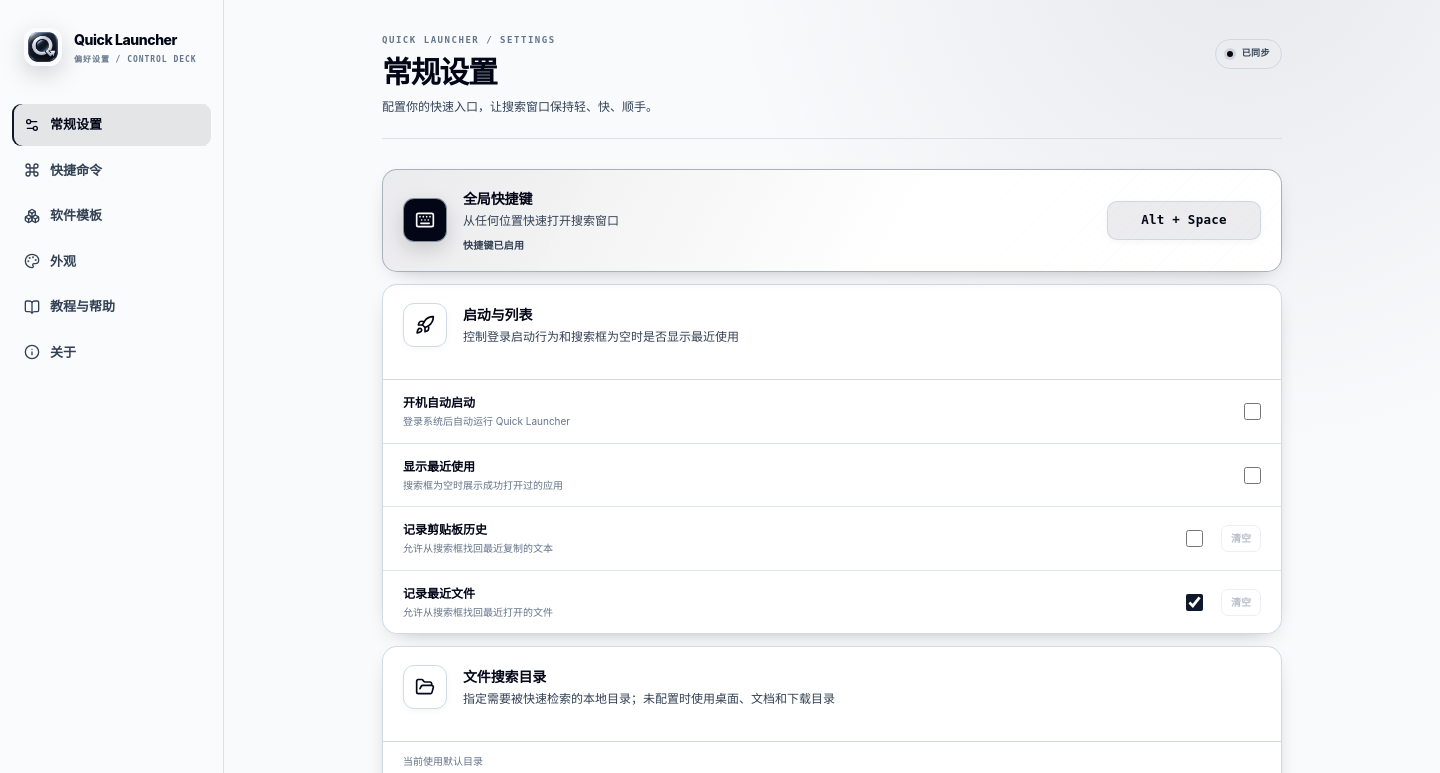
Test: SettingsPage › offers to relocate an unavailable package application
Click the button "快捷命令": (112, 170) x1=12 y1=150 x2=211 y2=191
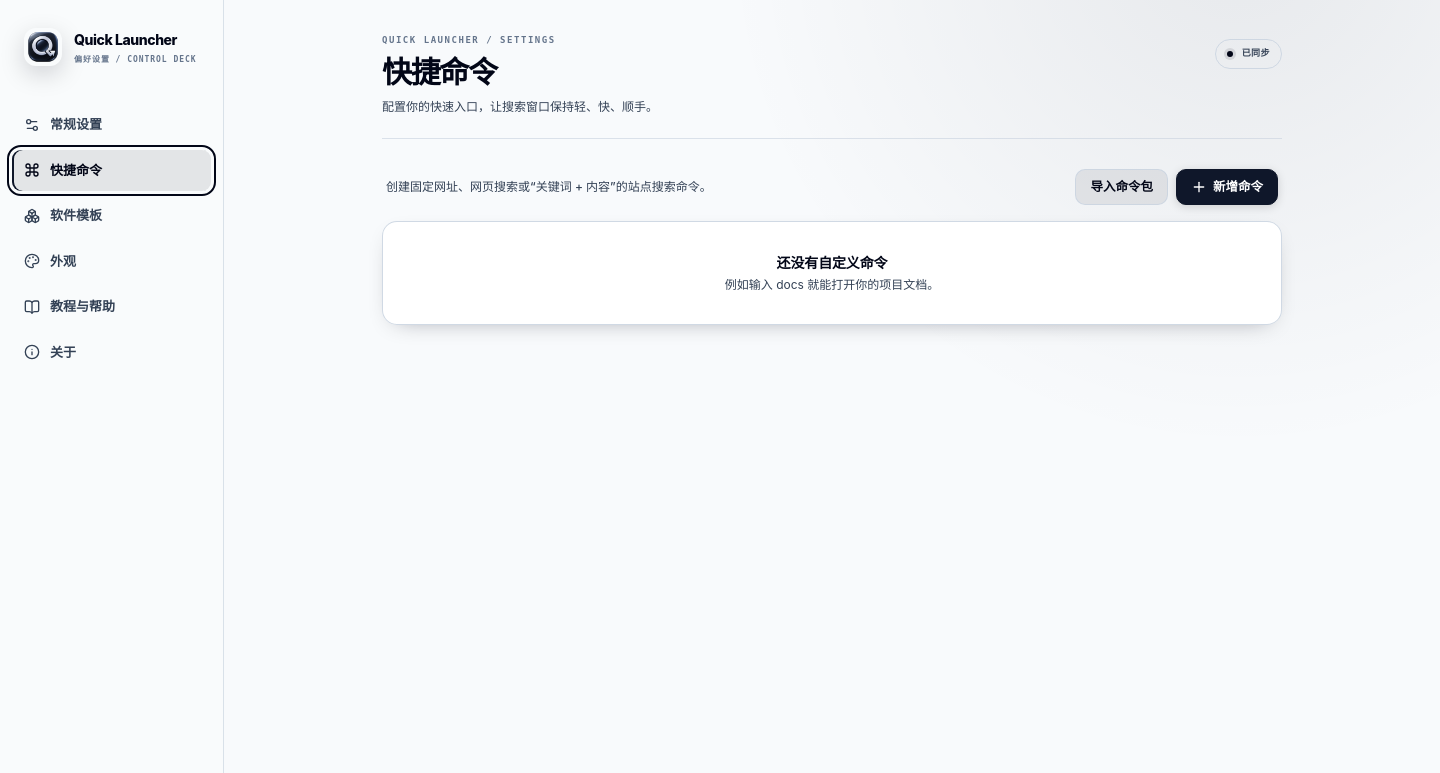
Click the button "导入命令包": (1122, 187) x1=1076 y1=168 x2=1168 y2=205
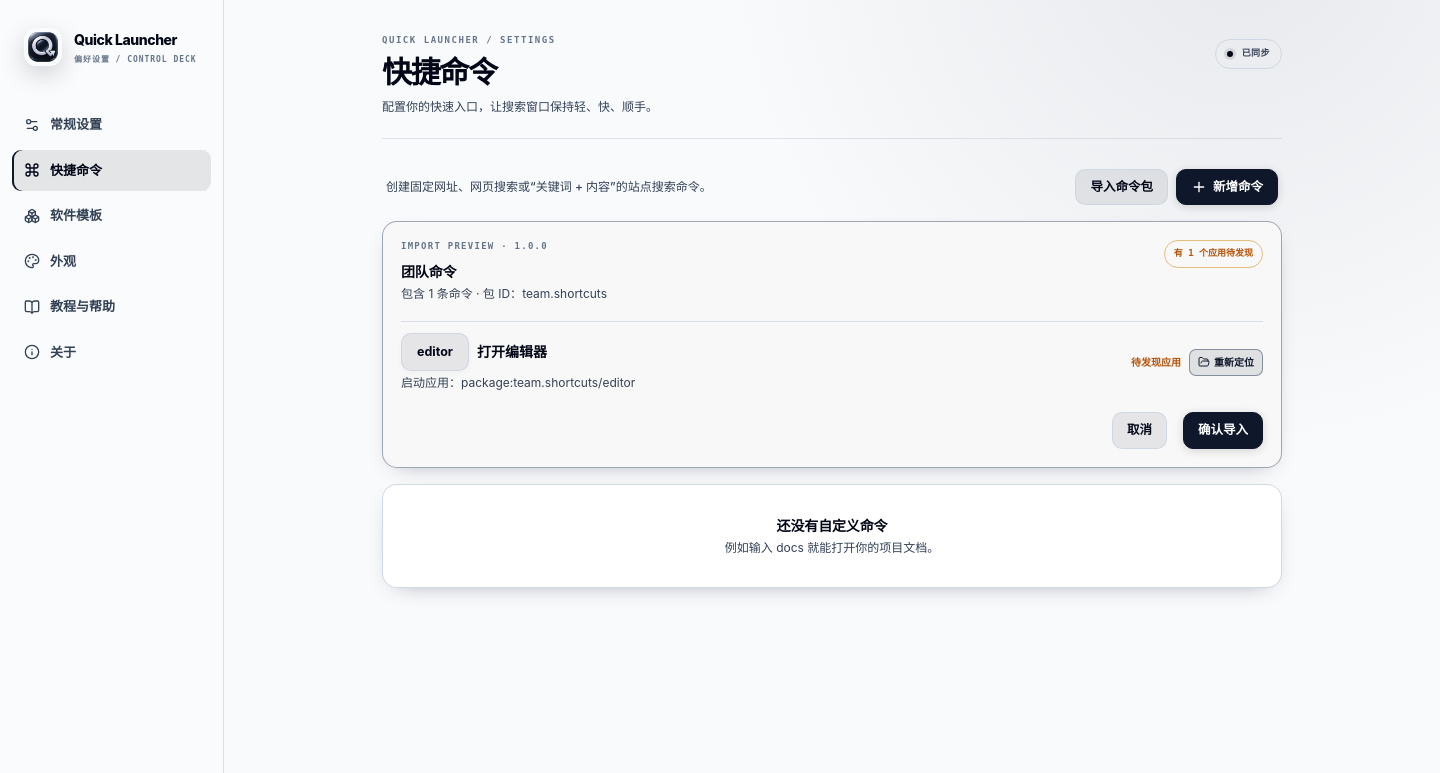
Click the button with aria-label "重新定位 打开编辑器": (1226, 362) x1=1189 y1=349 x2=1263 y2=376
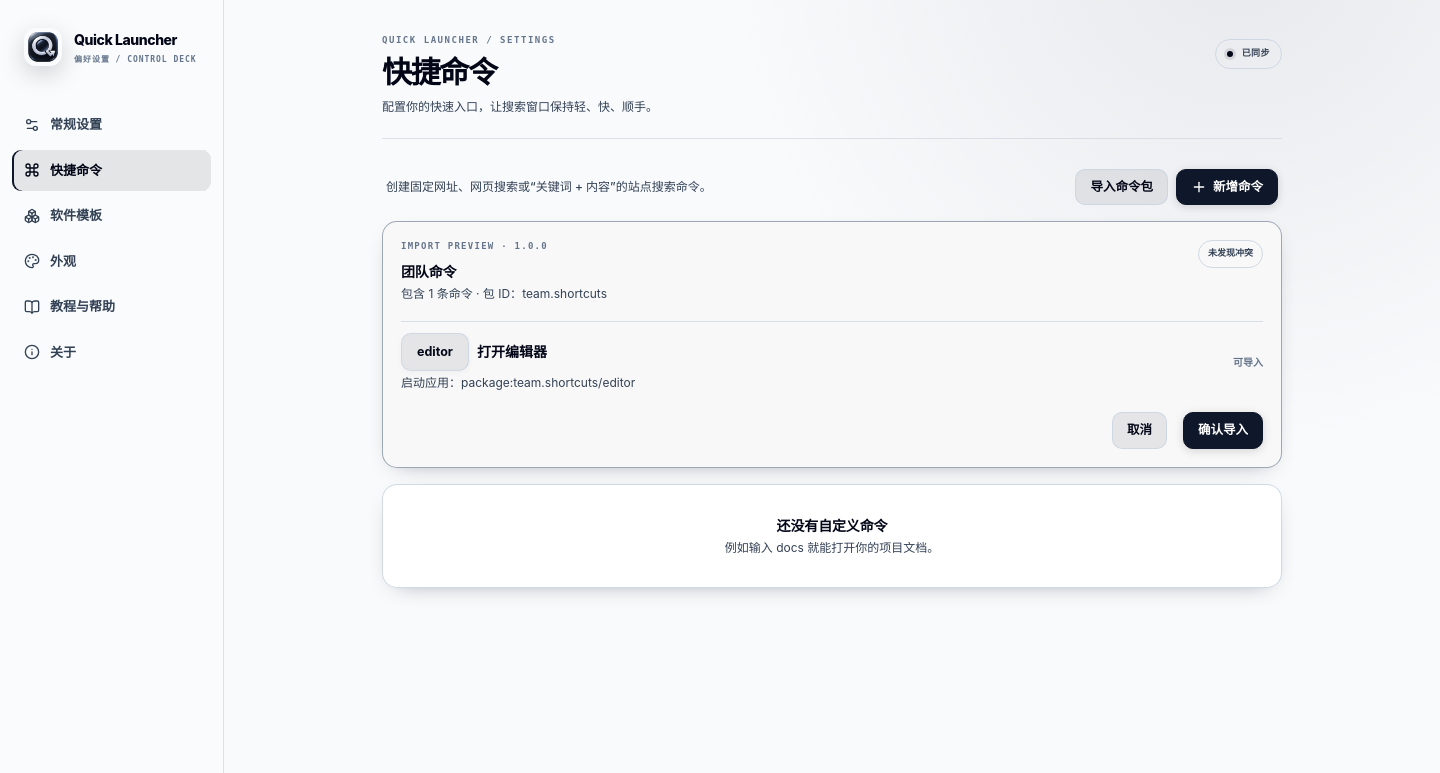
Expected: the text "可导入" is shown, x1=1233 y1=355 x2=1263 y2=370
